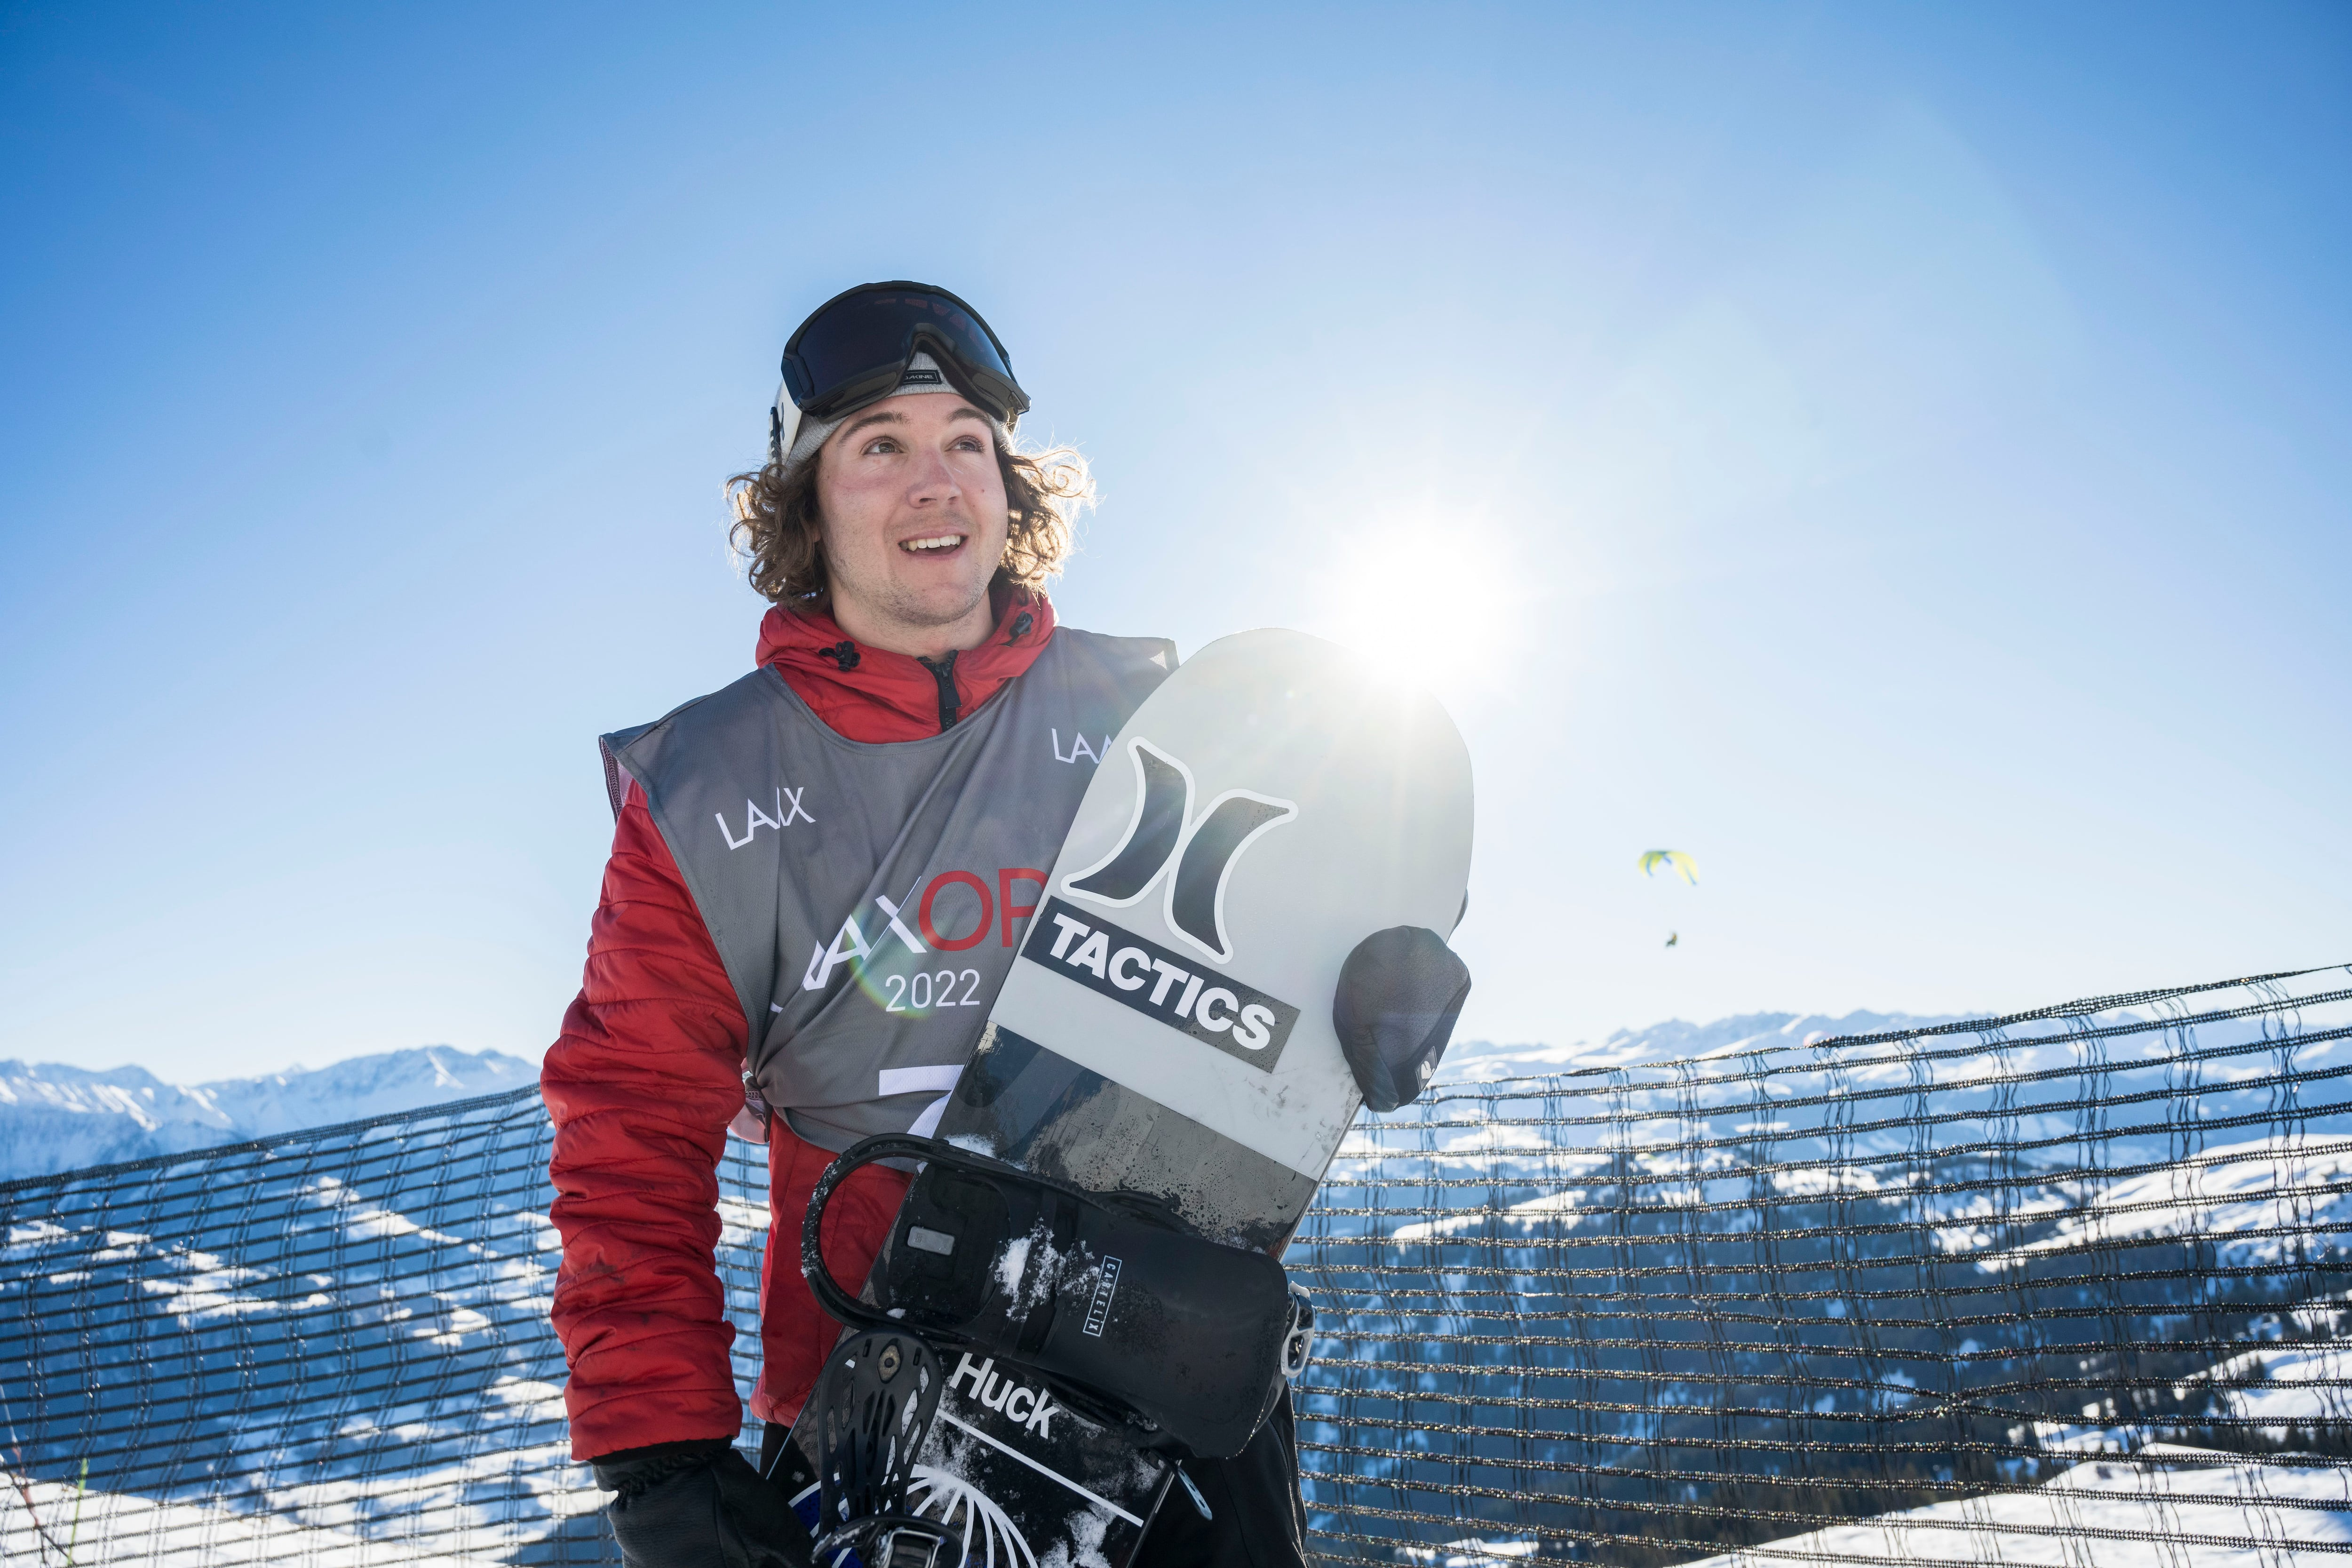snowboarder: (553, 273, 1487, 1565)
